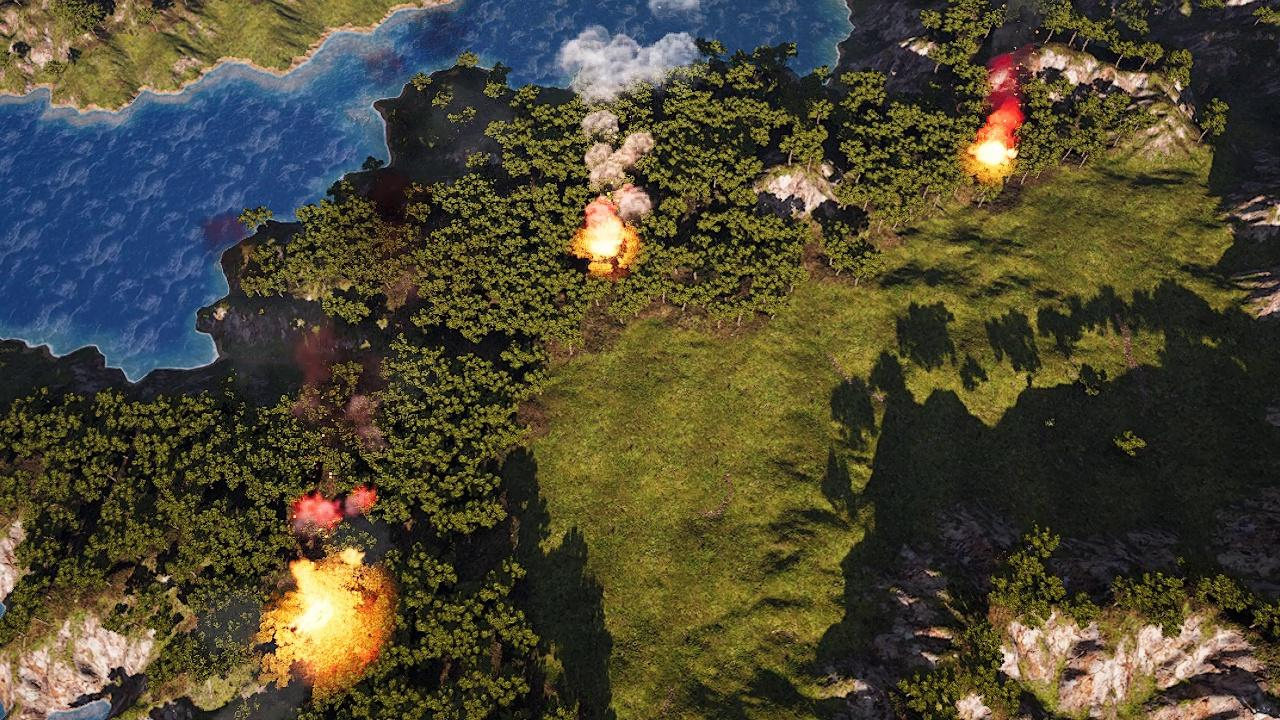fire: (275, 552, 372, 675), (579, 207, 630, 260), (970, 125, 1018, 172)
smoke: (550, 1, 704, 206), (977, 0, 1041, 121), (292, 480, 381, 546)
